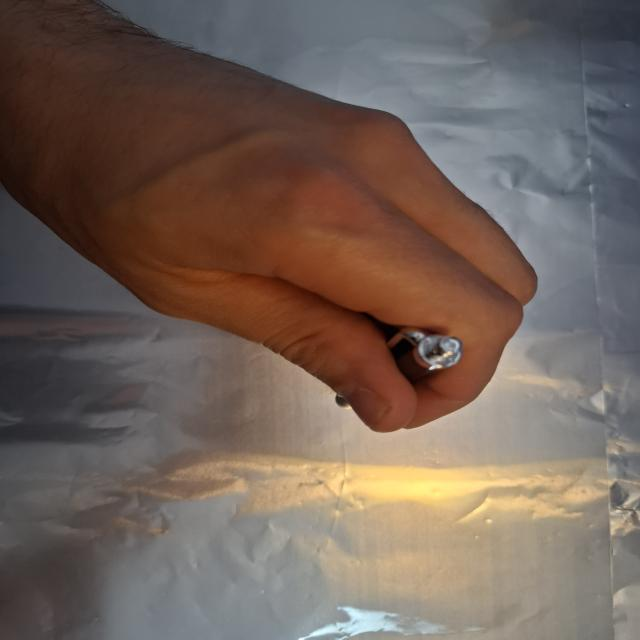glove_off: (14, 38, 541, 436)
